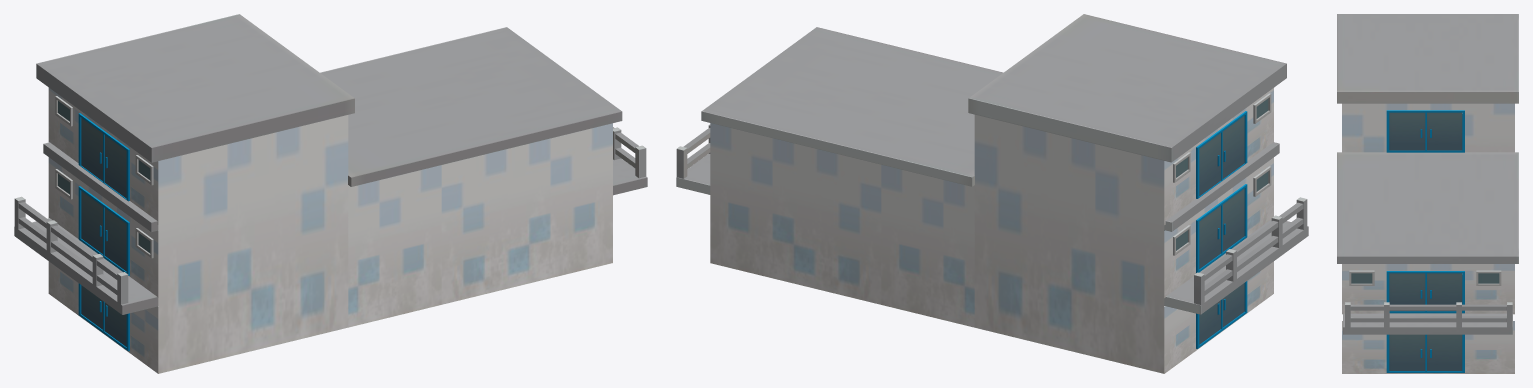
File: Nha_trang_dai.fbx
3 renders of one model, left to right at view 1: azimuth 30°, elevation 25°; view 2: azimuth 150°, elevation 25°; view 3: azimuth 270°, elevation 25°, orthographic. The views are drawn at different scales.
Parts seen in each view (by area): view 1: Nha_trang_dai; view 2: Nha_trang_dai; view 3: Nha_trang_dai.
Boxes of the visible parts, x1,y1,x2,y2 form: Nha_trang_dai: [14, 14, 647, 373]; Nha_trang_dai: [676, 14, 1308, 373]; Nha_trang_dai: [1337, 14, 1518, 373].
Size of the model in its own units: 2451 by 1028 by 933.
